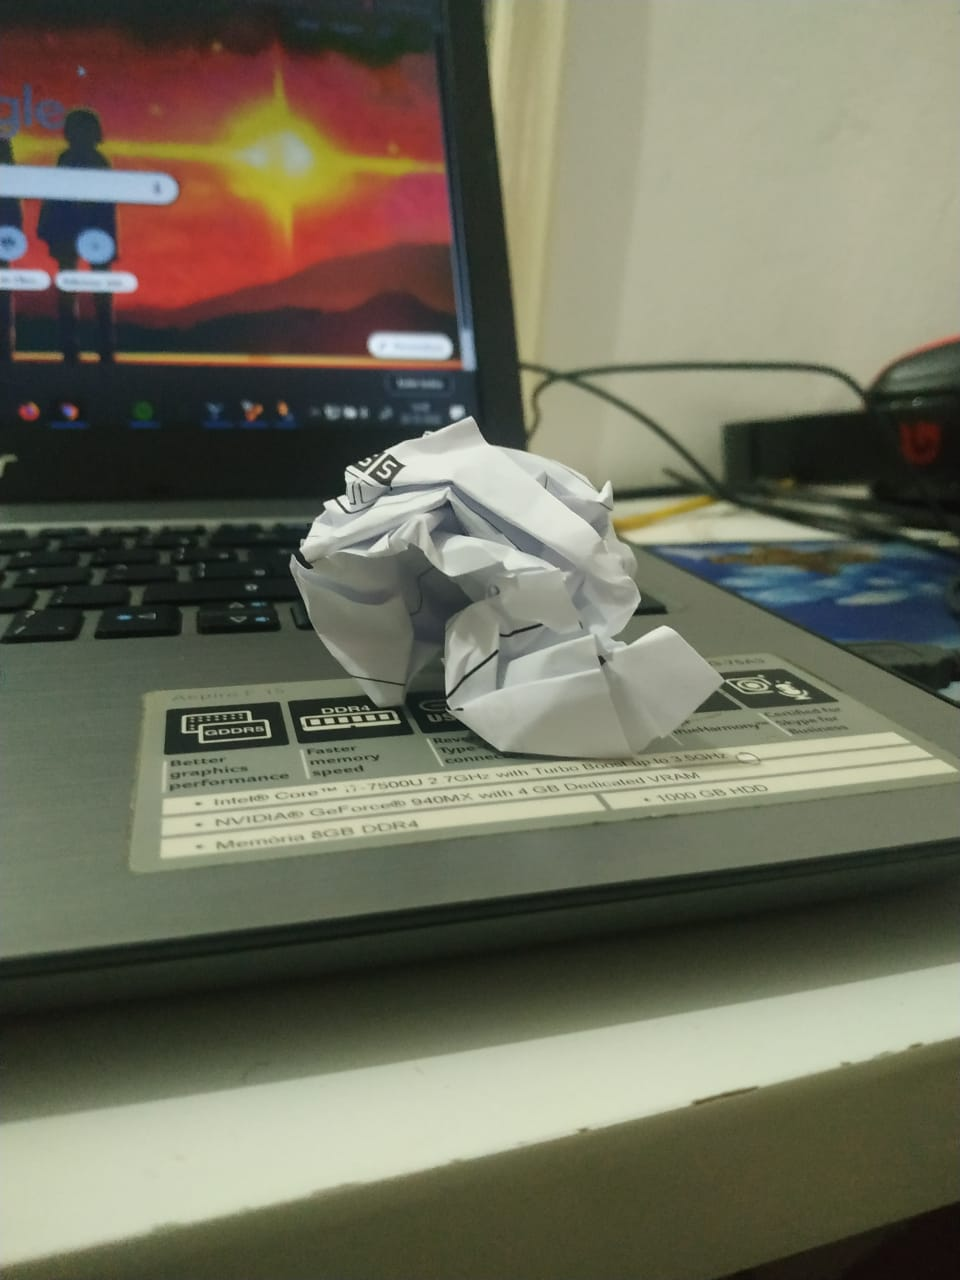paper-crumpled: (282, 386, 731, 780)
